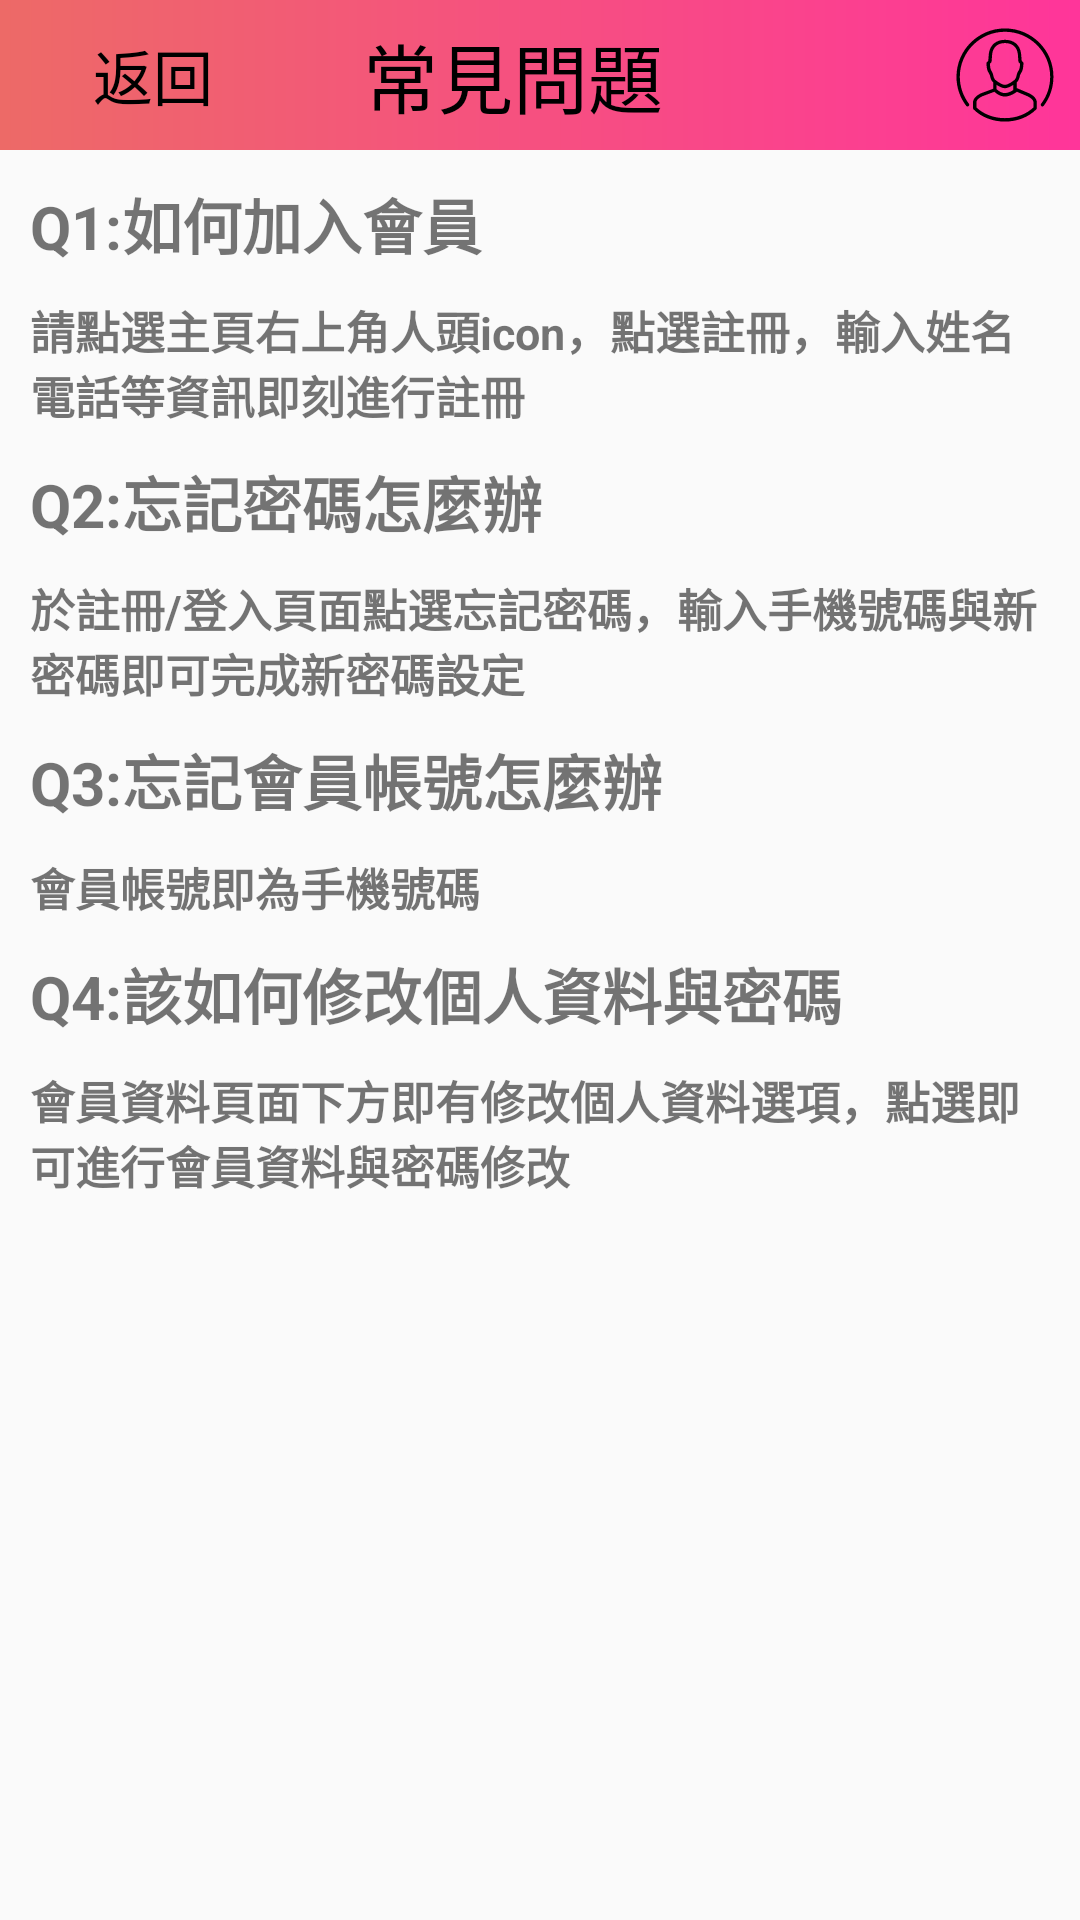

Icons on this 1080x1920 Android screen, each with its box as (x1, y1, x2, y2):
account: (956, 28, 1054, 122)
